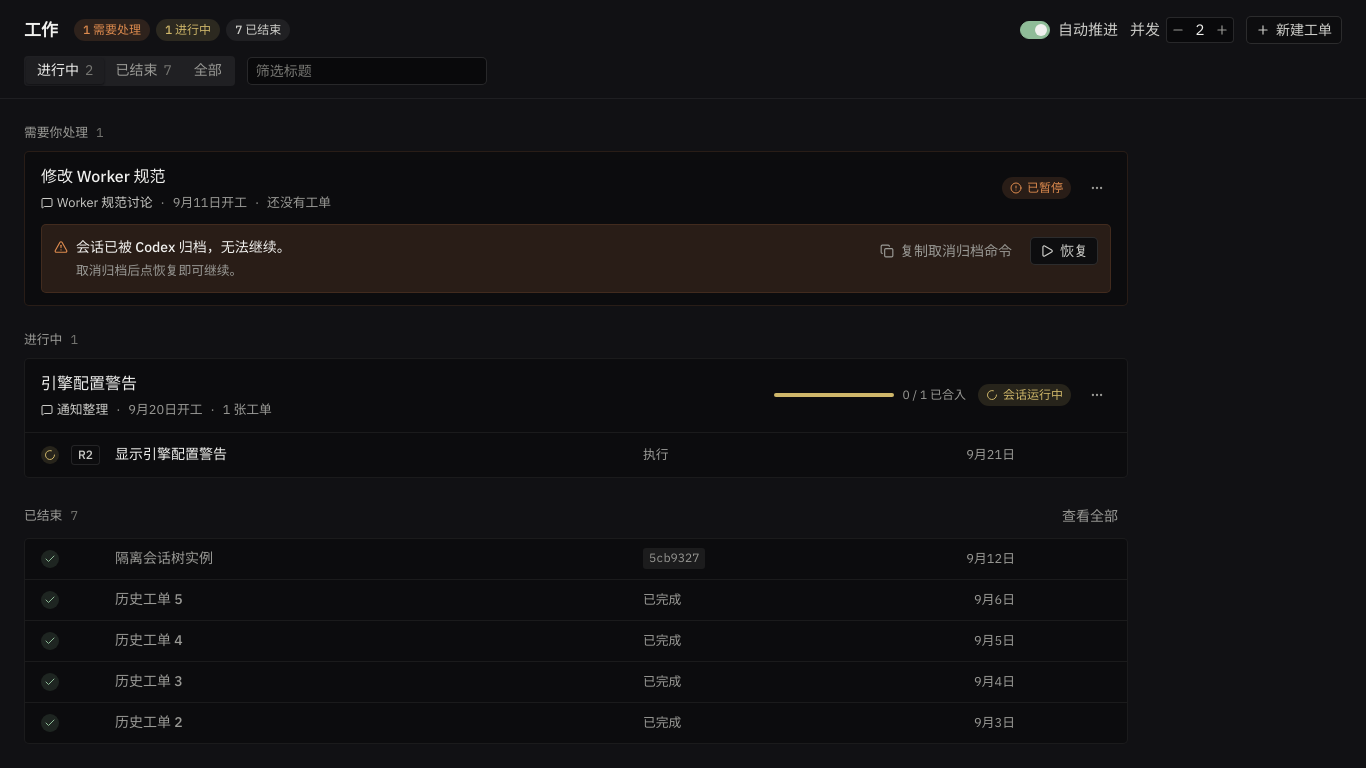
Test: work board › shows a rejected action as one readable sentence without the CLI hint
The width and height of the screenshot is (1366, 768).
What coordinates should you click on to do the following:
click the button "恢复"
I would click on:
 (1064, 252)
Its box is [1030,238,1098,266].
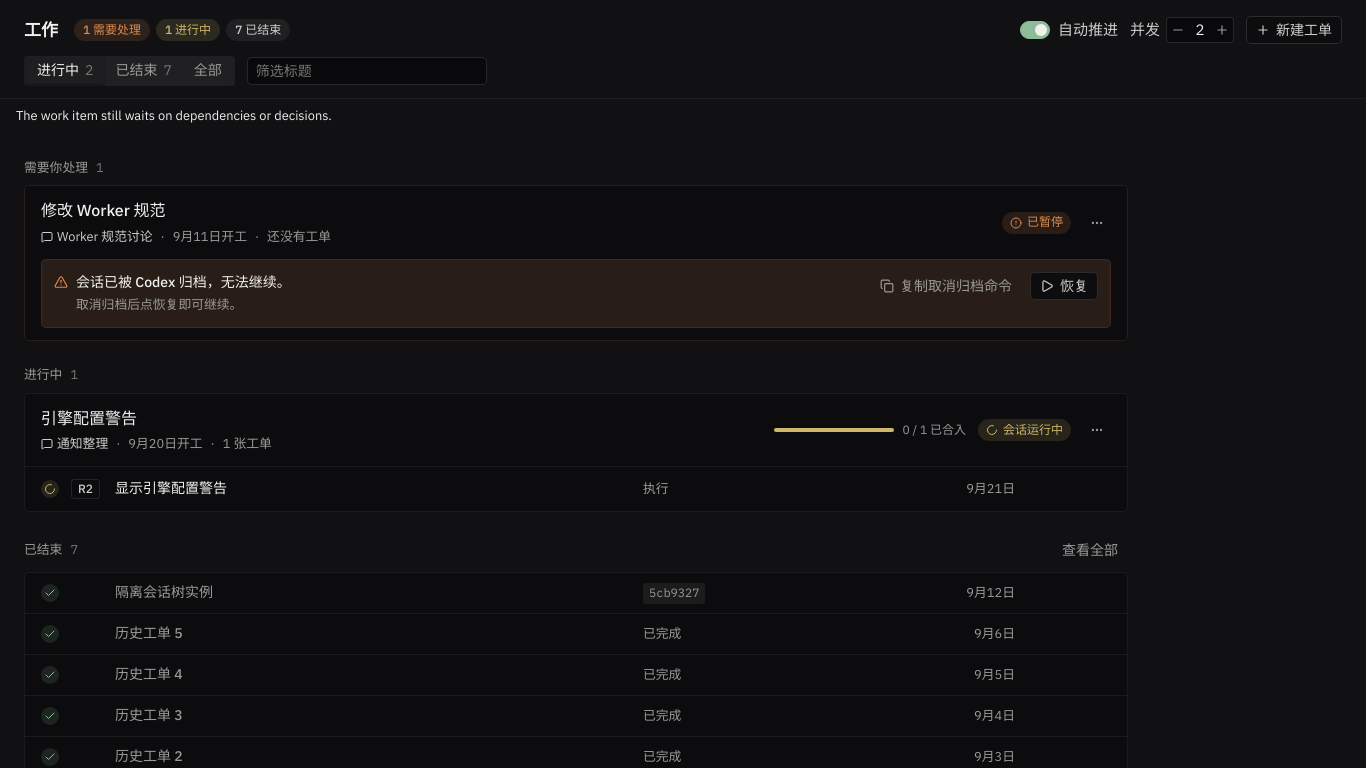
Expected: the text "The work item still waits on dependencies or decisions." is shown, [16,107,332,124]
